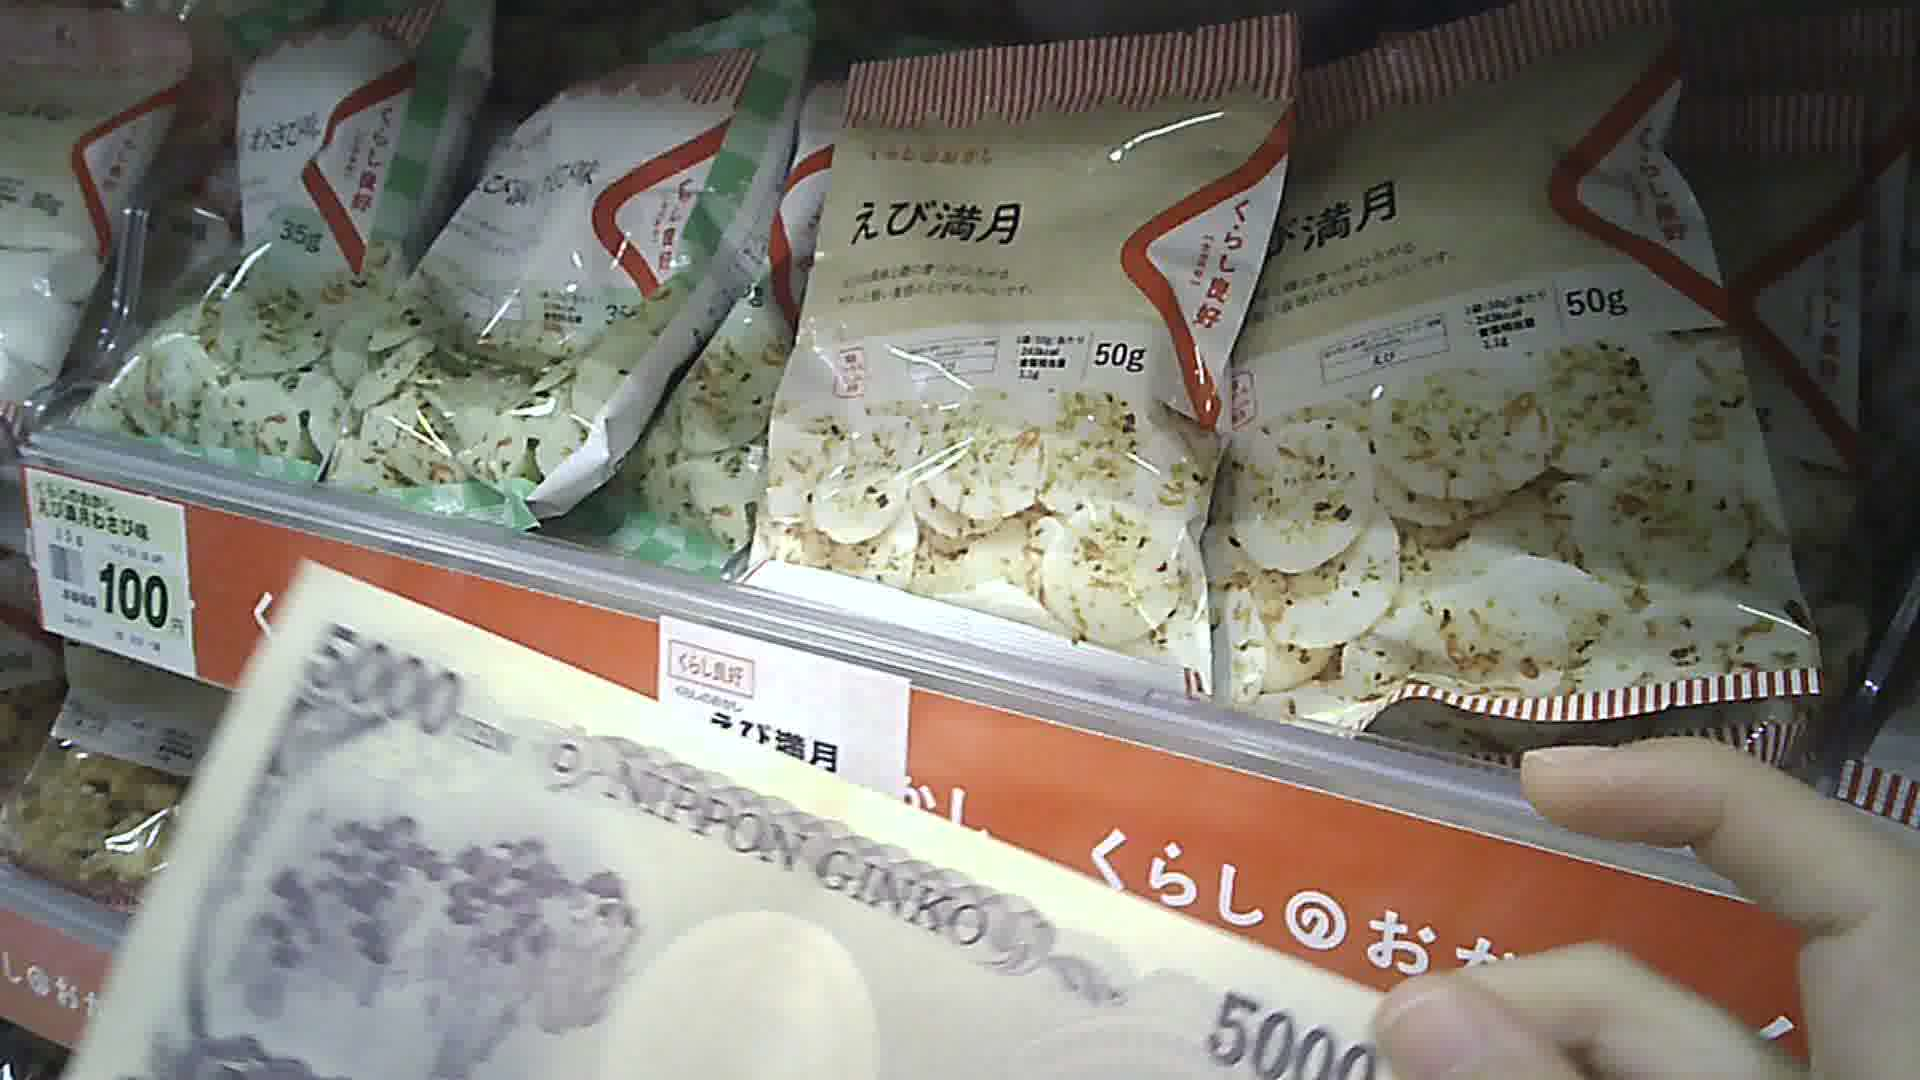5,000 Yen: (80, 580, 1414, 1077)
